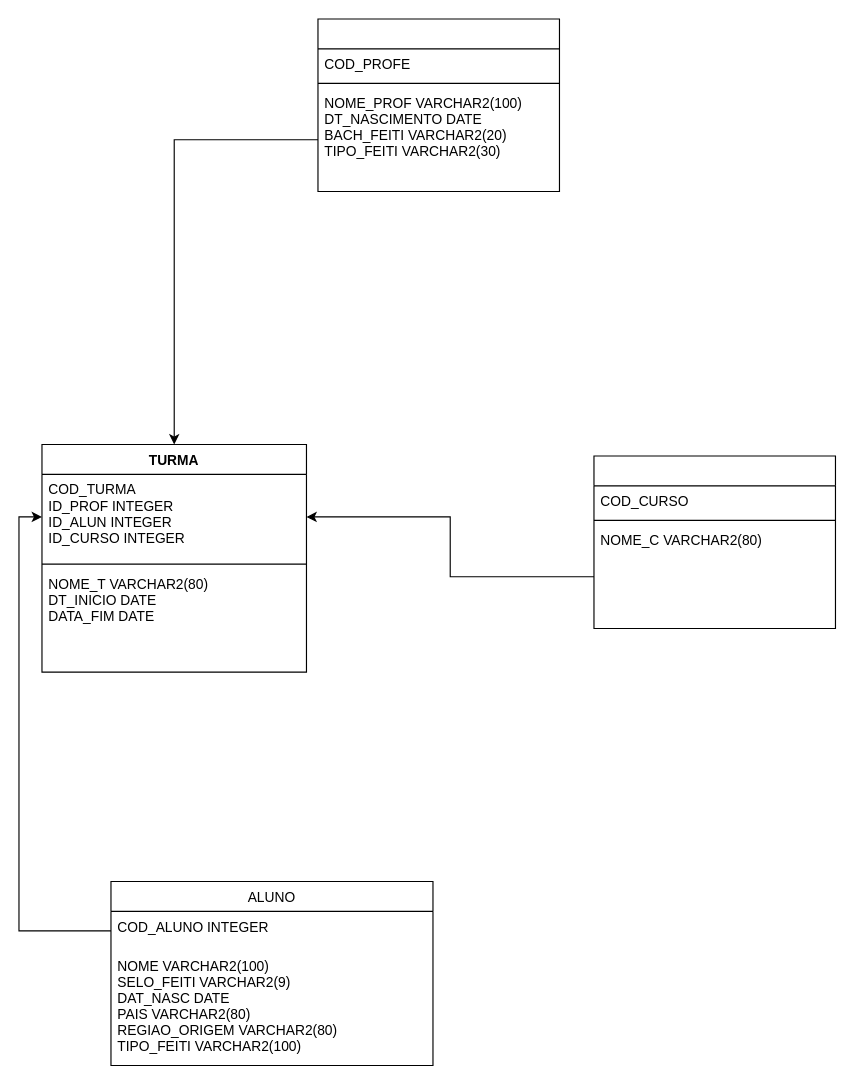
The diagram is 854 pixels wide and 1084 high, and some of its shapes have lost their labels. Each missing label, with the box of its shape:
CURSOS: (593, 455, 835, 628)
PROFESSOR: (317, 18, 559, 191)
